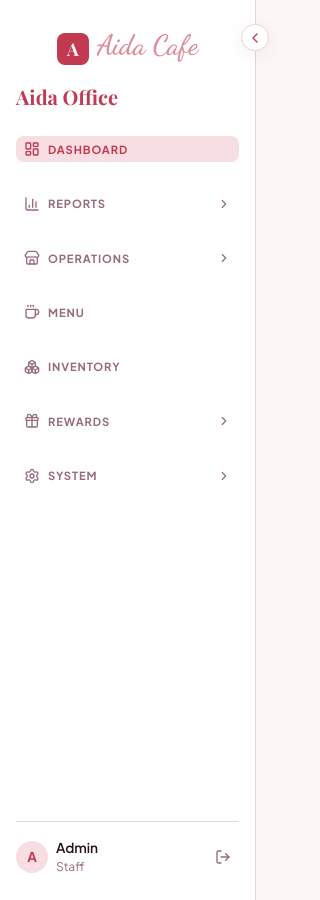
it: AdminSidebar (collapsed rail icon clicks) › opens the newly-clicked section even if a different one was open before collapsing
Click the button named "Collapse sidebar". click: point(255, 38)
box: [241, 24, 269, 51]
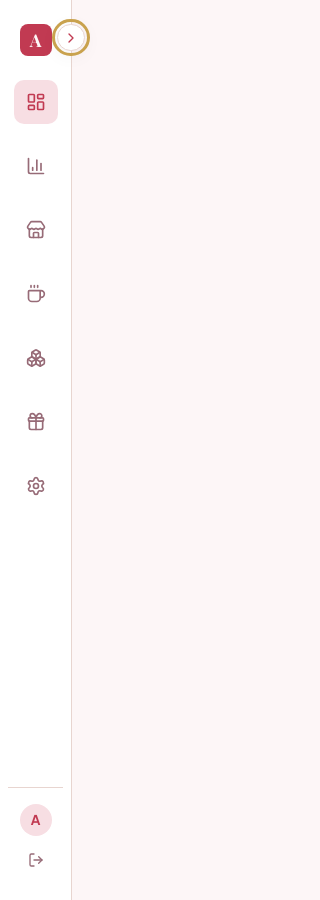
Click the button named "Reports". click: point(36, 166)
box: [14, 144, 58, 188]
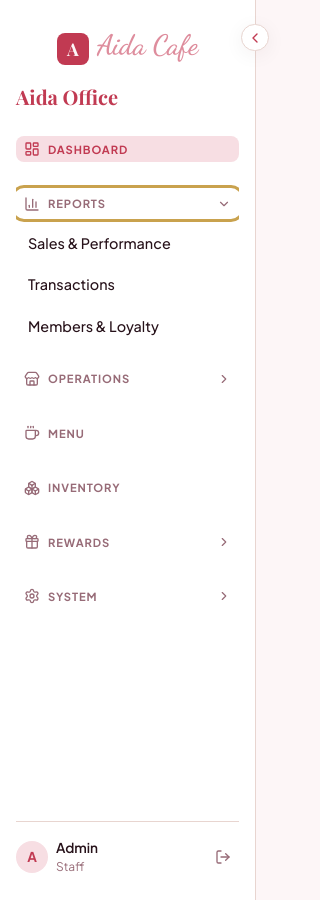
Now the link "Sales & Performance" is shown, box [28, 234, 171, 252]
Click the button named "Collapse sidebar". click: point(255, 38)
box: [241, 24, 269, 51]
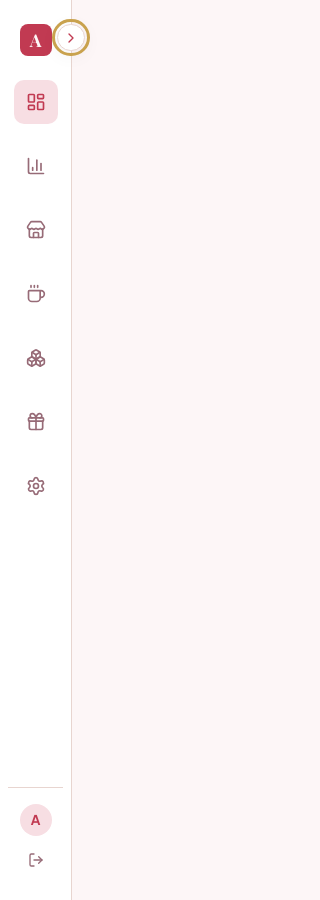
Click the button named "Operations". click: point(36, 230)
box: [14, 208, 58, 252]
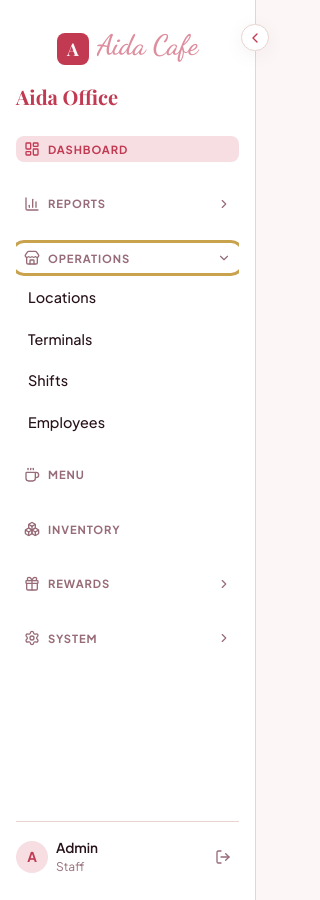
Expected: the link "Sales & Performance" is not shown
Now the link "Terminals" is shown, box [28, 330, 92, 348]
